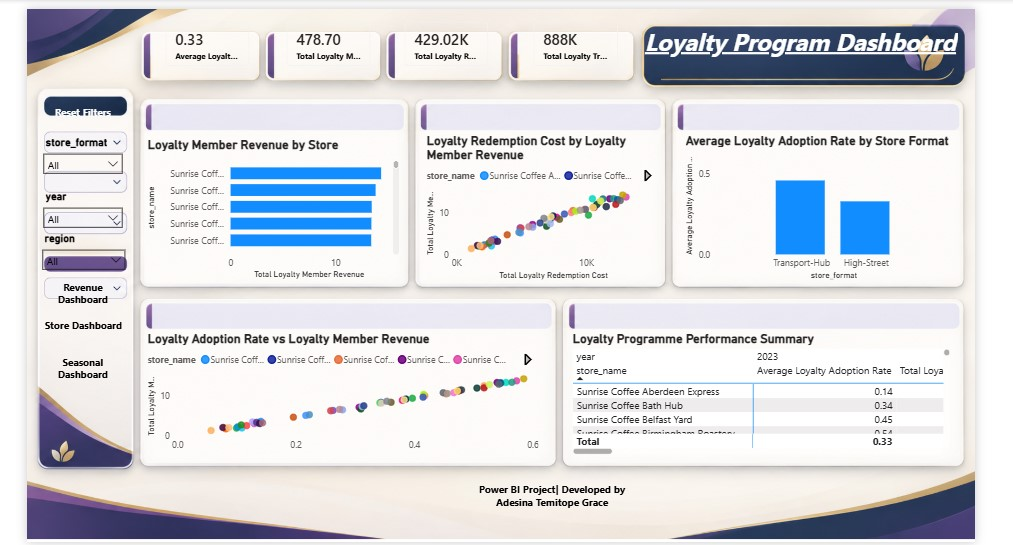

The dashboard page shown, as its layout file describes it:
{"tool":"powerbi","page":{"name":"Loyalty Dashboard","canvas":[1280,720],"ordinal":2},"visuals":[{"type":"scatterChart","title":"Loyalty Adoption Rate vs Loyalty Member Revenue","fields":{"Series":["dim_store.store_name"],"X":["Measure Table.Average Loyalty Adoption Rate"],"Y":["Measure Table.Total Loyalty Member Revenue"]},"box":[158.3,434.9,538.2,172],"z":0},{"type":"scatterChart","title":"Loyalty Redemption Cost by Loyalty Member Revenue","fields":{"Series":["dim_store.store_name"],"X":["Measure Table.Total Loyalty Redemption Cost"],"Y":["Measure Table.Total Loyalty Member Revenue"]},"box":[535.4,167.7,323.1,203.1],"z":1000},{"type":"clusteredColumnChart","title":"Average Loyalty Adoption Rate by Store Format","fields":{"Category":["dim_store.store_format"],"Y":["Measure Table.Average Loyalty Adoption Rate"]},"box":[884.6,167.7,367.7,203.1],"z":2000},{"type":"clusteredBarChart","title":"Loyalty Member Revenue by Store","fields":{"Category":["dim_store.store_name"],"Y":["Measure Table.Total Loyalty Member Revenue"]},"box":[158.5,173.8,350.8,196.9],"z":3000},{"type":"pivotTable","title":"Loyalty Programme Performance Summary","fields":{"Rows":["dim_store.store_name"],"Values":["Measure Table.Average Loyalty Adoption Rate","Measure Table.Total Loyalty Member Revenue","Measure Table.Total Loyalty Redemption Cost","Measure Table.Total Net Profit","Measure Table.Total Revenue"],"Columns":["dim_date.year"]},"box":[732.3,435.4,520,172.3],"z":4000},{"type":"actionButton","title":"Revenue Dashboard","box":[12.4,360.6,126.6,46.8],"z":5000},{"type":"actionButton","title":"Seasonal Dashboard","box":[12.4,456.9,126.6,55.1],"z":6000},{"type":"actionButton","title":"Store Dashboard","box":[12.4,407.4,128,38.5],"z":7000},{"type":"slicer","fields":{"Values":["dim_date.year"]},"box":[12.4,240.9,126.6,56.4],"z":8000},{"type":"slicer","fields":{"Values":["dim_store.region"]},"box":[11,297.3,132.1,63.3],"z":9000},{"type":"slicer","fields":{"Values":["dim_store.store_format"]},"box":[12.4,167.9,126.6,72.9],"z":10000},{"type":"actionButton","title":"Reset Filters","box":[9.6,118.4,132.1,39.9],"z":11000},{"type":"textbox","box":[591.8,634.5,235.4,55.1],"z":12000},{"type":"textbox","box":[827.2,16.5,436.3,88.1],"z":13000},{"type":"cardVisual","fields":{"Data":["Measure Table.Average Loyalty Adoption Rate"]},"box":[170.7,0,147.3,95],"z":14000},{"type":"cardVisual","fields":{"Data":["Measure Table.Total Loyalty Member Revenue"]},"box":[334.5,0,147.3,95],"z":15000},{"type":"cardVisual","fields":{"Data":["Measure Table.Total Loyalty Redemption Cost"]},"box":[492.7,0,147.3,95],"z":16000},{"type":"cardVisual","fields":{"Data":["Measure Table.Total Loyalty Transactions"]},"box":[667.5,0,148.6,95],"z":17000}]}

Visuals, with their boxes on the page's 1280x720 design canvas (x1, y1, x2, y2). These are canvas units, not pixel positions in the 1013x545 screenshot, which may show the page scaled, cropped or inside an application window:
"Loyalty Adoption Rate vs Loyalty Member Revenue" scatterChart: [158, 435, 696, 607]
"Loyalty Redemption Cost by Loyalty Member Revenue" scatterChart: [535, 168, 858, 371]
"Average Loyalty Adoption Rate by Store Format" clusteredColumnChart: [885, 168, 1252, 371]
"Loyalty Member Revenue by Store" clusteredBarChart: [158, 174, 509, 371]
"Loyalty Programme Performance Summary" pivotTable: [732, 435, 1252, 608]
"Revenue Dashboard" actionButton: [12, 361, 139, 407]
"Seasonal Dashboard" actionButton: [12, 457, 139, 512]
"Store Dashboard" actionButton: [12, 407, 140, 446]
slicer - dim_date.year: [12, 241, 139, 297]
slicer - dim_store.region: [11, 297, 143, 361]
slicer - dim_store.store_format: [12, 168, 139, 241]
"Reset Filters" actionButton: [10, 118, 142, 158]
textbox: [592, 634, 827, 690]
textbox: [827, 16, 1264, 105]
cardVisual - Measure Table.Average Loyalty Adoption Rate: [171, 0, 318, 95]
cardVisual - Measure Table.Total Loyalty Member Revenue: [334, 0, 482, 95]
cardVisual - Measure Table.Total Loyalty Redemption Cost: [493, 0, 640, 95]
cardVisual - Measure Table.Total Loyalty Transactions: [668, 0, 816, 95]
